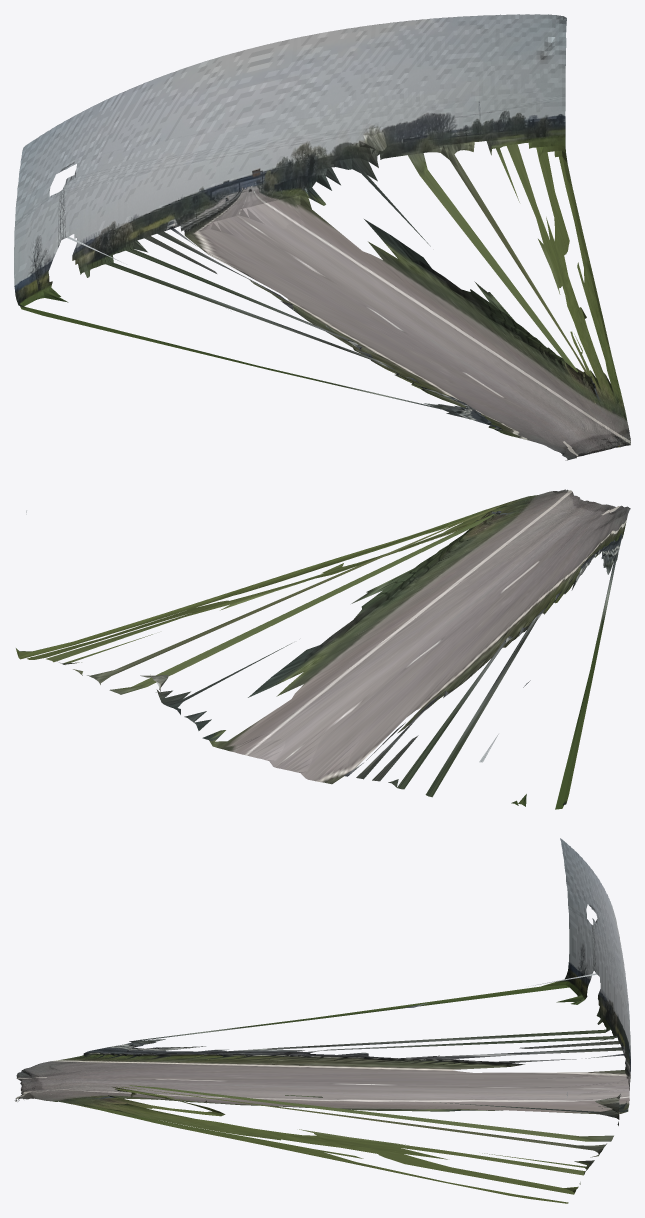
3 renders of one model, top to bottom at view 1: azimuth 30°, elevation 25°; view 2: azimuth 150°, elevation 25°; view 3: azimuth 270°, elevation 25°, orthographic. The views are drawn at different scales.
Visible parts, largest first — view 1: defaultobject; view 2: defaultobject; view 3: defaultobject.
Boxes of the visible parts, left/top/right/bottom form: defaultobject: left=14, top=14, right=630, bottom=460; defaultobject: left=16, top=489, right=630, bottom=809; defaultobject: left=14, top=838, right=630, bottom=1203.
Bounding box in the file's own units: 41.16 × 12.7 × 44.71.
1 material, 1 textured.
